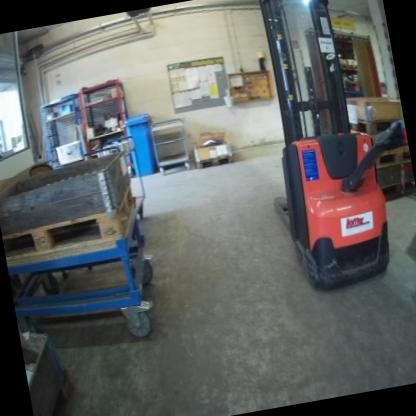pallet: (0, 180, 141, 262), (349, 109, 405, 139), (373, 145, 411, 170), (195, 152, 235, 171)
pallet_truck: (238, 0, 405, 308)
